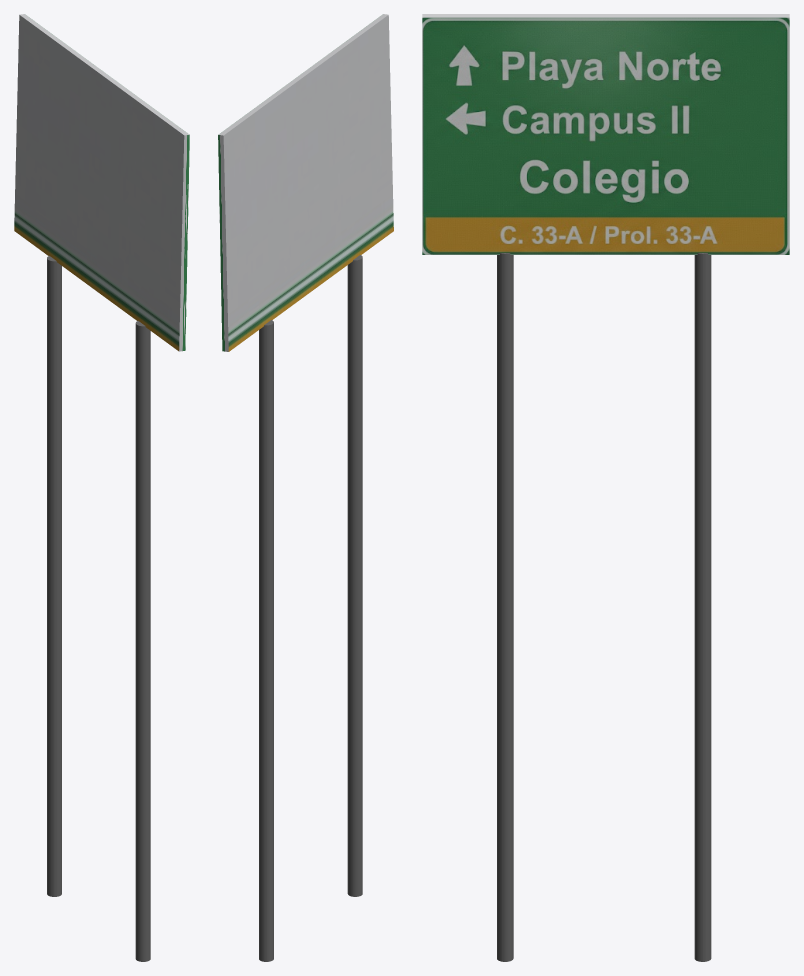
File: Indicaciones.fbx
3 views of the same model, side by side, from view 1: azimuth 30°, elevation 25°; view 2: azimuth 150°, elevation 25°; view 3: azimuth 270°, elevation 25° (orthographic). The views are drawn at different scales.
Parts seen in each view (by area): view 1: Cube, Cylinder, Cylinder.001; view 2: Cube, Cylinder, Cylinder.001; view 3: Cube, Cylinder.001, Cylinder.
Boxes of the visible parts, x1,y1,x2,y2 form: Cube: (14,14,189,351); Cylinder: (135,321,150,961); Cylinder.001: (47,256,61,896); Cube: (218,14,393,351); Cylinder: (347,255,362,896); Cylinder.001: (259,320,273,961); Cube: (422,14,789,254); Cylinder.001: (694,253,711,961); Cylinder: (497,253,513,961).
Bounding box in the file's own units: 32.28 × 1654 × 582.
Materials: 2 (1 with a texture image).
